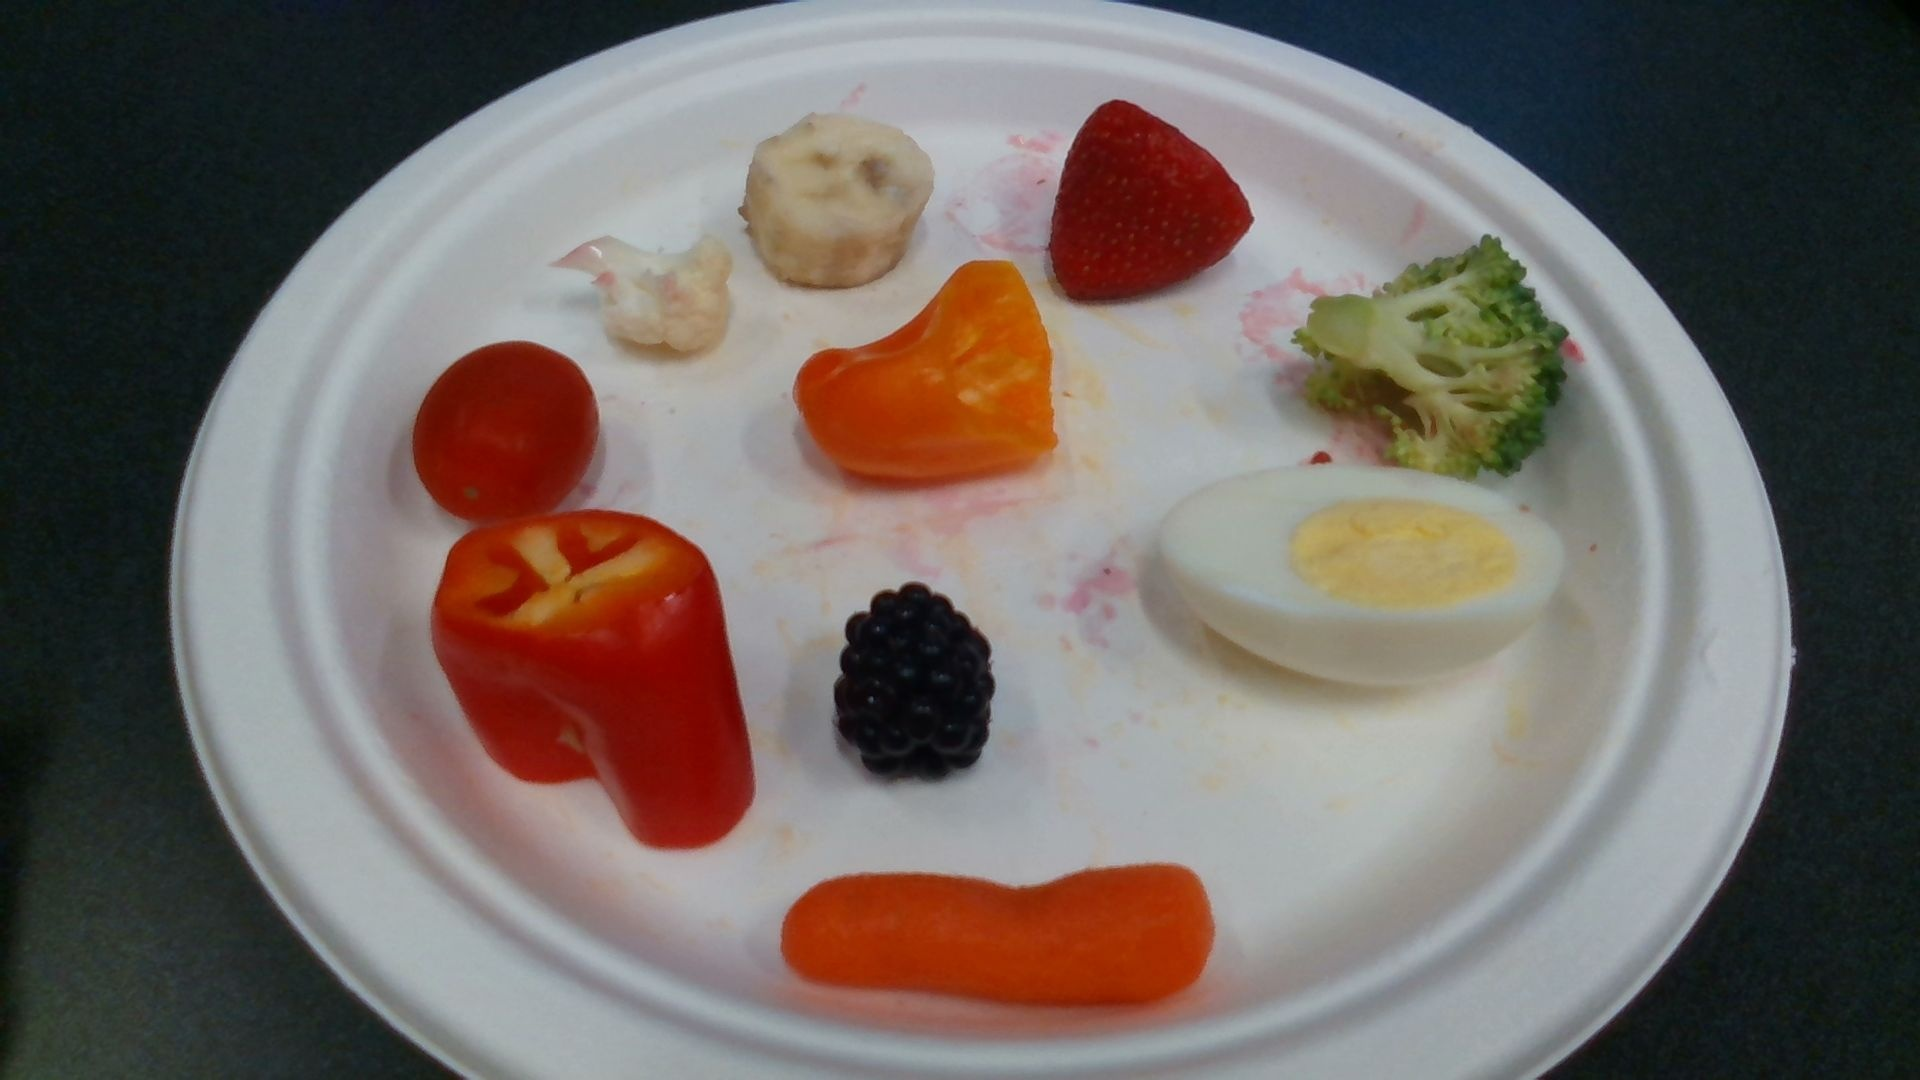banana: (749, 115, 935, 284)
bell_pepper: (433, 516, 756, 848), (796, 266, 1055, 477)
blackberry: (833, 583, 990, 783)
broccoli: (1292, 241, 1565, 473)
carrot: (785, 866, 1217, 1006)
cauliflower: (555, 235, 735, 349)
cherry_tomato: (414, 342, 599, 520)
egg: (1164, 463, 1563, 686)
strawberry: (1048, 100, 1250, 293)
